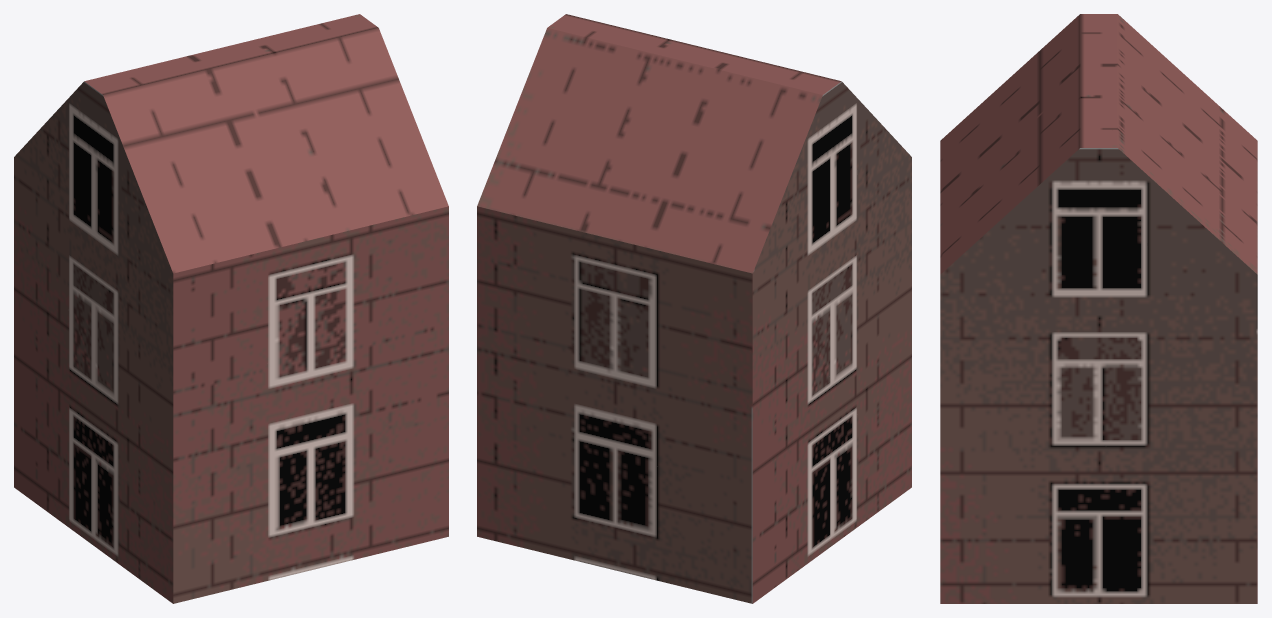
The model's file is House.fbx.
3 renders of one model, left to right at view 1: azimuth 30°, elevation 25°; view 2: azimuth 150°, elevation 25°; view 3: azimuth 270°, elevation 25°, orthographic.
Parts seen in each view (by area): view 1: House; view 2: House; view 3: House.
Part boxes in pixels (x1,y1,x2,y2): House: (14, 14, 448, 603); House: (477, 14, 911, 603); House: (940, 14, 1257, 603).
Size of the model in its own units: 200 by 317 by 200.
1 material, 1 textured.
